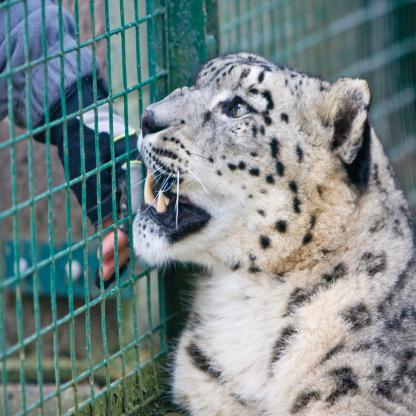leopard: (132, 49, 372, 281)
